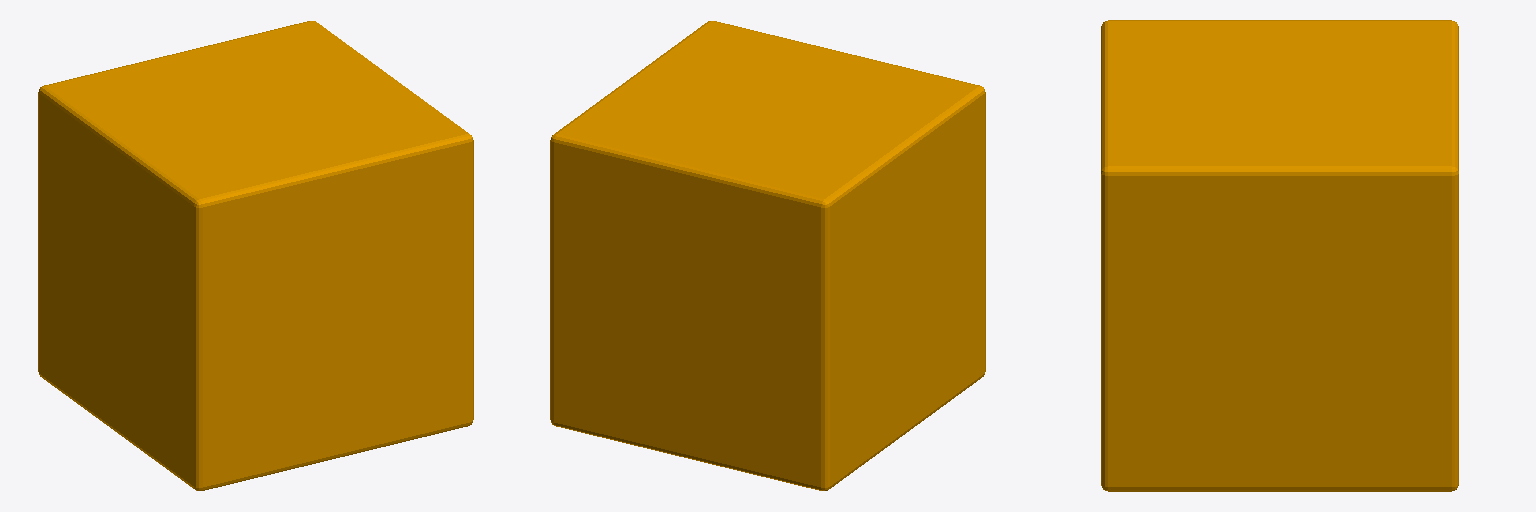
URDF robot description (wooden_block_7_5):
<?xml version="1.0" ?>
<robot name="wooden_block_7_5">
  <link name="base_link">
    <inertial>
      <origin xyz="0 0 0.0375" rpy="0 0 0"/>
      <mass value="0.196"/>
      <inertia ixx="0.00018375" ixy="0" ixz="0" iyy="0.00018375" iyz="0" izz="0.00018375"/>
    </inertial>
    <visual name="visual">
      <origin xyz="0 0 0" rpy="0 0 0"/>
      <geometry>
        <mesh filename="meshes/visual.obj" scale="1 1 1"/>
      </geometry>
    </visual>
    <collision name="box">
      <origin xyz="0 0 0" rpy="0 0 0"/>
      <geometry>
        <mesh filename="meshes/collision/box.obj" scale="1 1 1"/>
      </geometry>
    </collision>
  </link>
</robot>

--- Facts derived from the render (not from the file) ---
3 views of the same robot in one strip: view 1: azimuth 30°, elevation 25°; view 2: azimuth 150°, elevation 25°; view 3: azimuth 270°, elevation 25° (orthographic).
Robot: wooden_block_7_5 — 1 links, 0 joints (none); root link base_link; default pose: all joints at 0.
Links seen in each view (by area): view 1: base_link; view 2: base_link; view 3: base_link.
Link boxes in pixels (x1,y1,x2,y2): base_link: [38, 21, 473, 490]; base_link: [550, 21, 985, 490]; base_link: [1101, 20, 1458, 491].
Size in the robot's own frame: 0.075 by 0.075 by 0.075 metres.
Meshes: 1 distinct files referenced, 1 mesh visuals loaded (1 OBJ).
